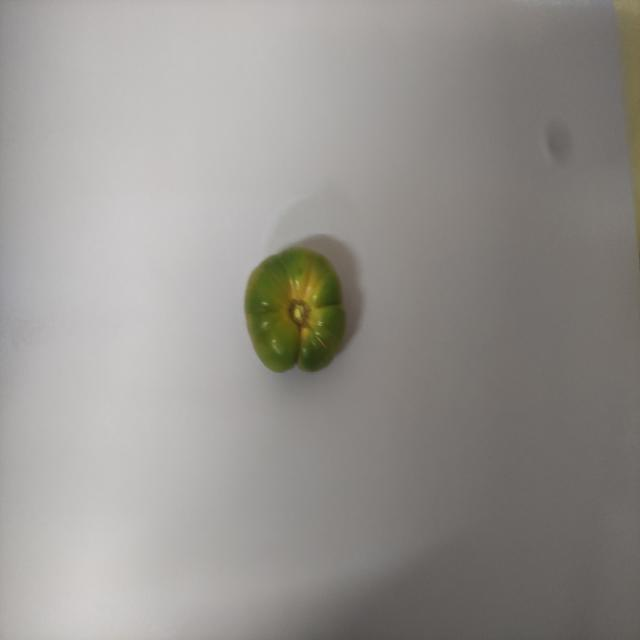yesil: (234, 242, 354, 387)
